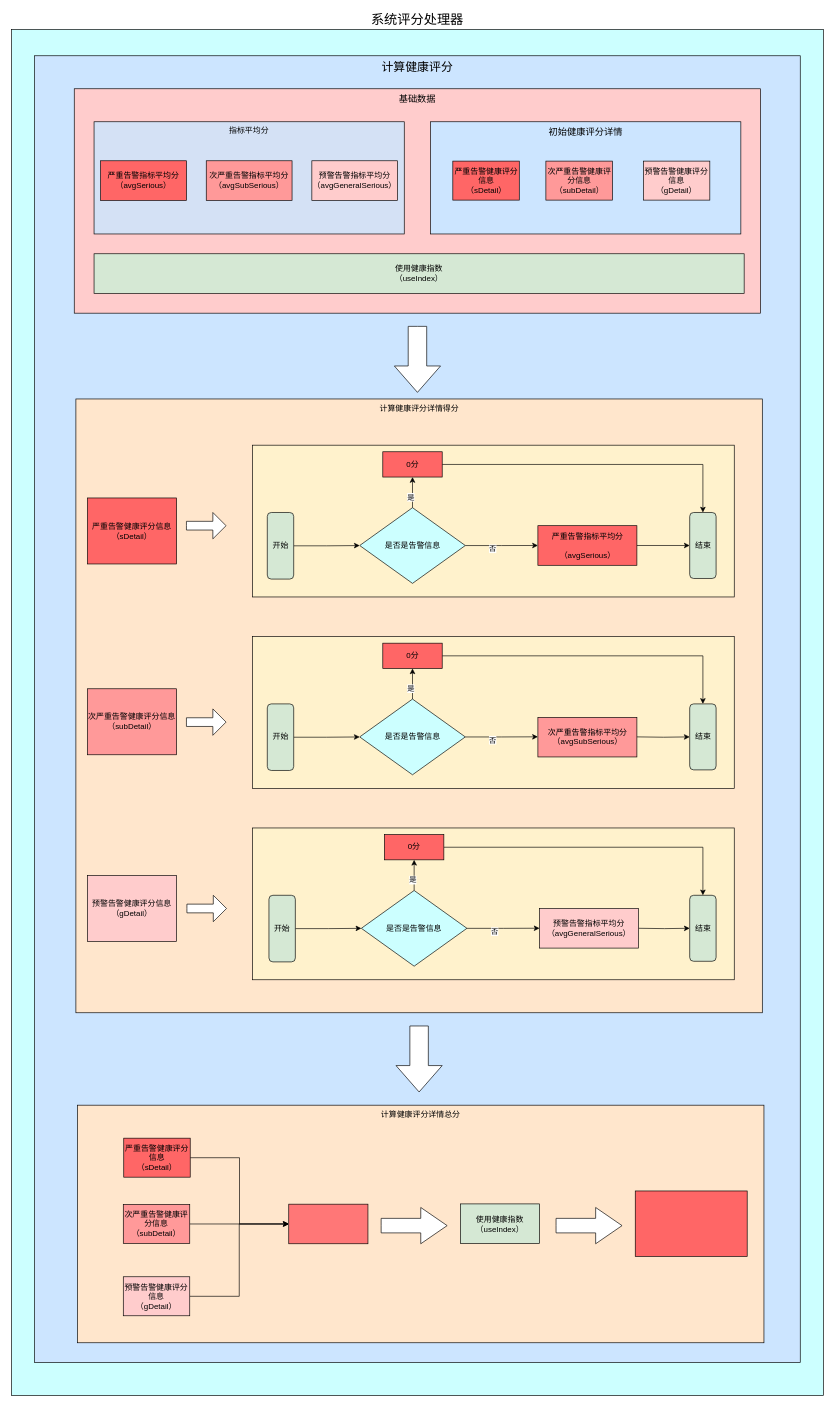
Image size: 835x1407. Some labels were removed from this diagram. The shapes that lost their labels are listed below. From the top down, each one's centre as x and y in pixels, then its label:
At (328,1224): "系统健康评分总分".
At (691,1223): "系统健康最终评分".
